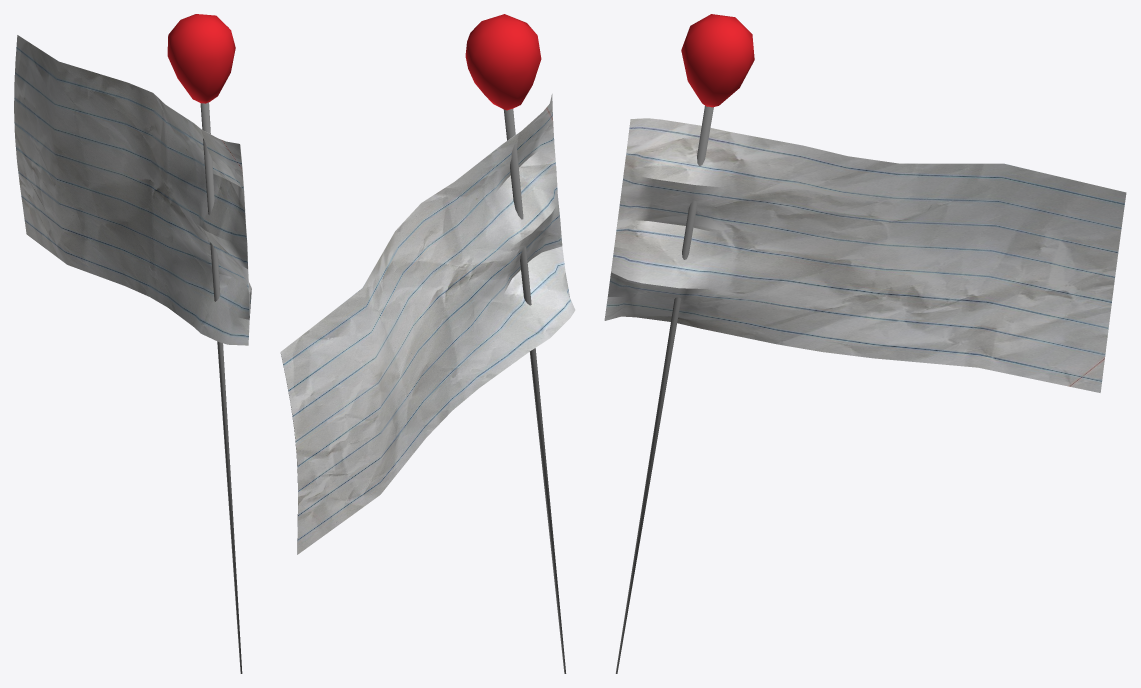
The model's file is flag.fbx.
The picture shows the model from 3 angles, left to right: view 1: azimuth 30°, elevation 25°; view 2: azimuth 150°, elevation 25°; view 3: azimuth 270°, elevation 25°; orthographic projection. The views are drawn at different scales.
Parts seen in each view (by area): view 1: Plane.001, Icosphere.001, Cylinder; view 2: Plane.001, Icosphere.001, Cylinder; view 3: Plane.001, Icosphere.001, Cylinder.
Boxes of the visible parts, x1,y1,x2,y2 form: Plane.001: (14,35,251,345); Icosphere.001: (167,14,235,103); Cylinder: (200,102,242,673); Plane.001: (280,93,575,554); Icosphere.001: (465,14,541,110); Cylinder: (503,109,566,673); Plane.001: (604,118,1126,392); Icosphere.001: (681,14,754,107); Cylinder: (615,105,713,673).
Size of the model in its own units: 28.19 by 291 by 208.
